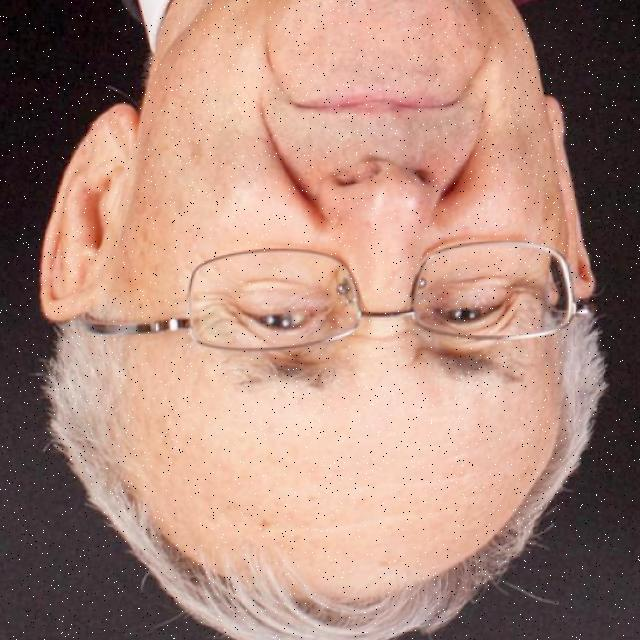puffy_eyes: (241, 292, 332, 310), (436, 284, 511, 303)
